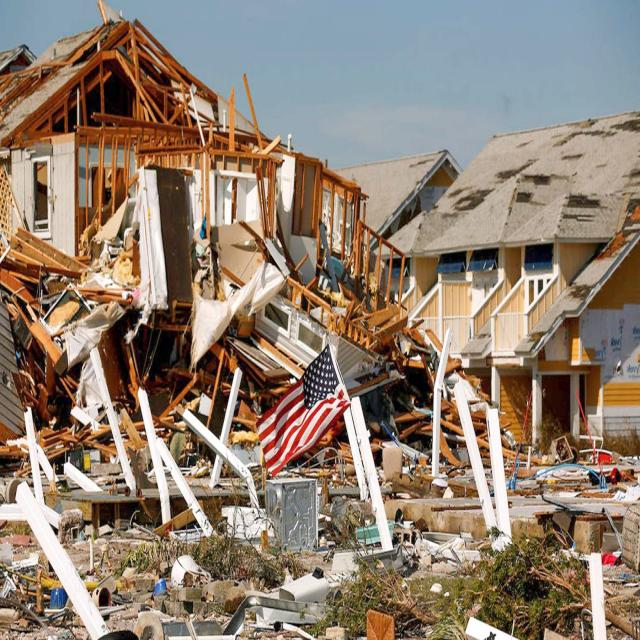Severely_Damaged: (0, 19, 639, 622)
